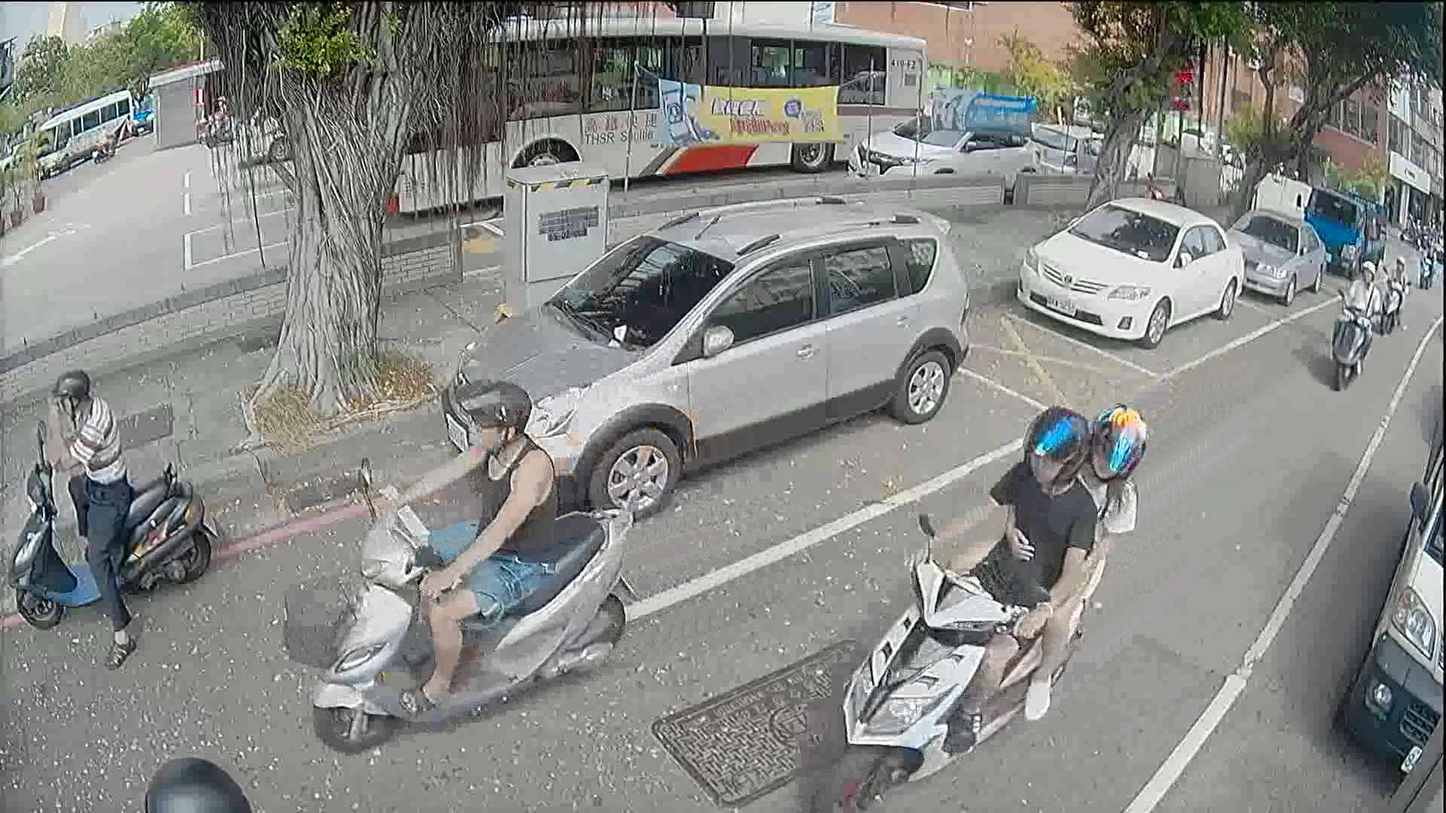person: (894, 388, 1102, 760), (364, 364, 570, 722), (950, 402, 1155, 713), (38, 366, 147, 662), (142, 754, 257, 811), (1339, 259, 1379, 371), (1386, 253, 1409, 311), (201, 92, 227, 135), (1417, 239, 1436, 269), (95, 120, 108, 146)
